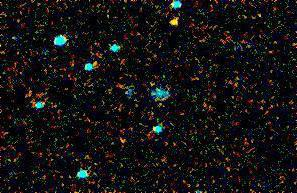star: (161, 8, 191, 38)
